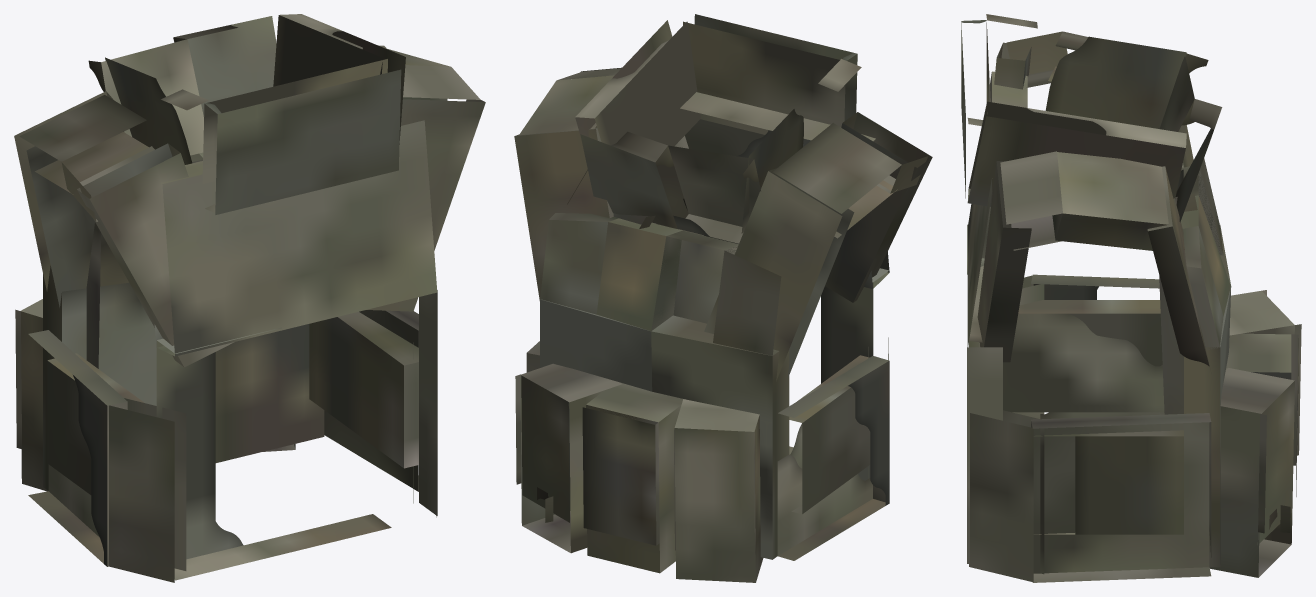
Rendered from osprey.obj.
3 renders of one model, left to right at view 1: azimuth 30°, elevation 25°; view 2: azimuth 150°, elevation 25°; view 3: azimuth 270°, elevation 25°, orthographic. The views are drawn at different scales.
Parts seen in each view (by area): view 1: cube; view 2: cube; view 3: cube.
Boxes of the visible parts, x1,y1,x2,y2 form: cube: [14, 14, 485, 582]; cube: [514, 14, 932, 582]; cube: [961, 14, 1301, 582].
Size of the model in its own units: 0.7558 by 0.8685 by 0.5871.
